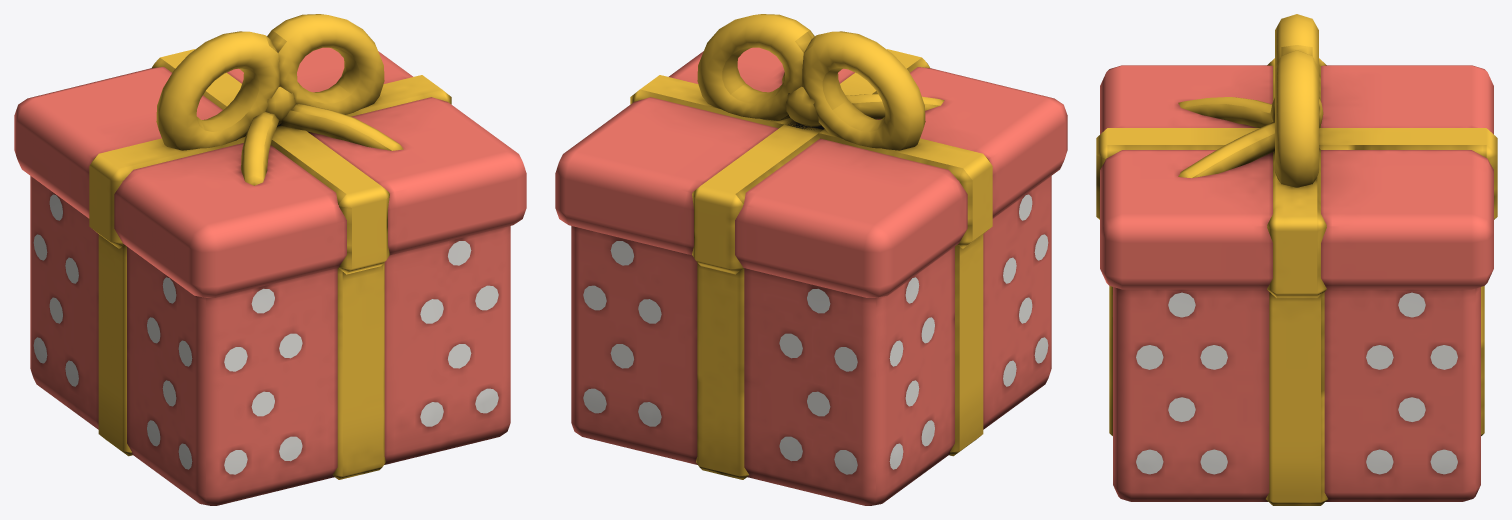
File: gift_box.glb
3 views of the same model, side by side, from view 1: azimuth 30°, elevation 25°; view 2: azimuth 150°, elevation 25°; view 3: azimuth 270°, elevation 25° (orthographic).
Parts seen in each view (by area): view 1: gift_box; view 2: gift_box; view 3: gift_box.
Boxes of the visible parts, box(x1,y1,x2,y2) form: gift_box: box(14, 14, 526, 505); gift_box: box(555, 14, 1067, 505); gift_box: box(1096, 14, 1497, 505).
Size of the model in its own units: 0.218 by 0.2354 by 0.218.
Materials: 3 (3 with a texture image).
